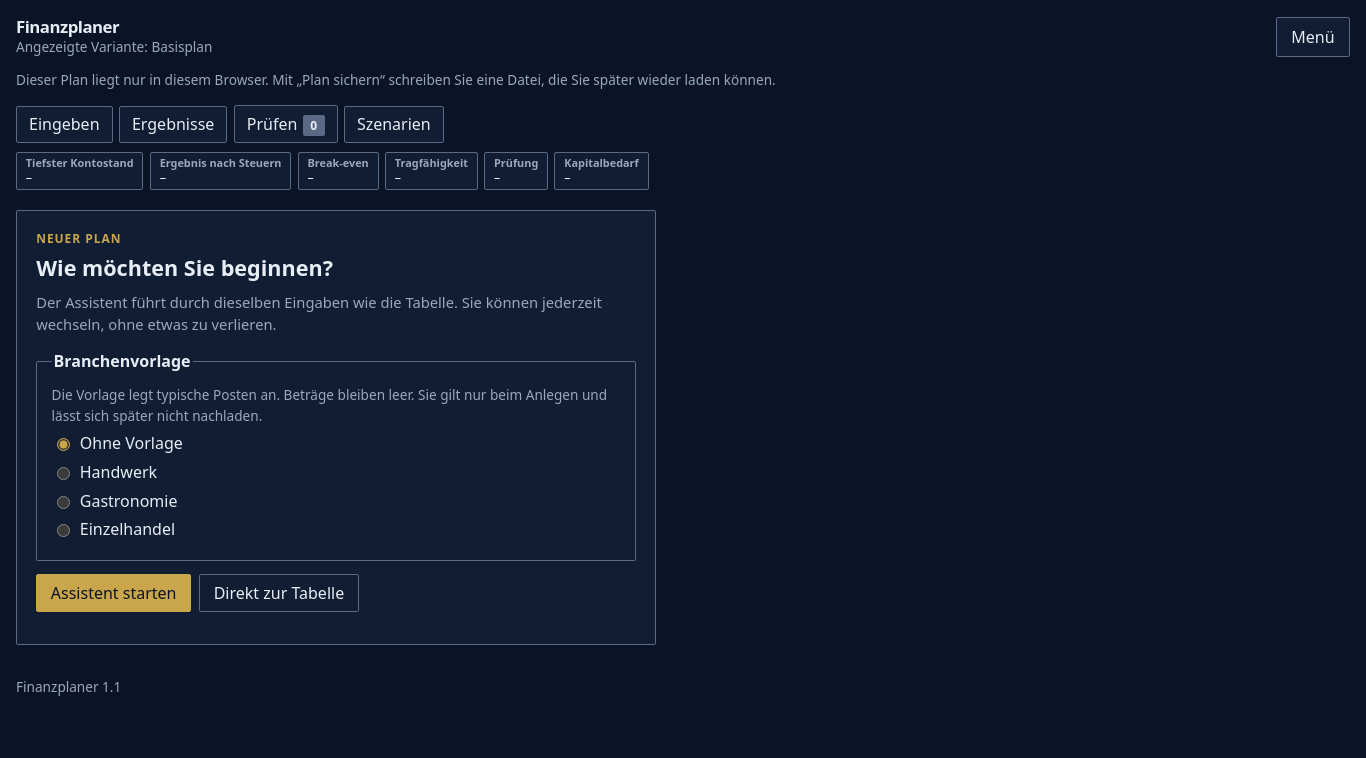
Test case: Branchenvorlage beim neuen Plan › zeigt die Auswahl und legt Handwerk mit leerem Betrag an
Expected: the radio button labelled "Ohne Vorlage" is checked, [57,438,70,451]
Click the radio button labelled "Handwerk": (63, 473) [57,467,70,480]
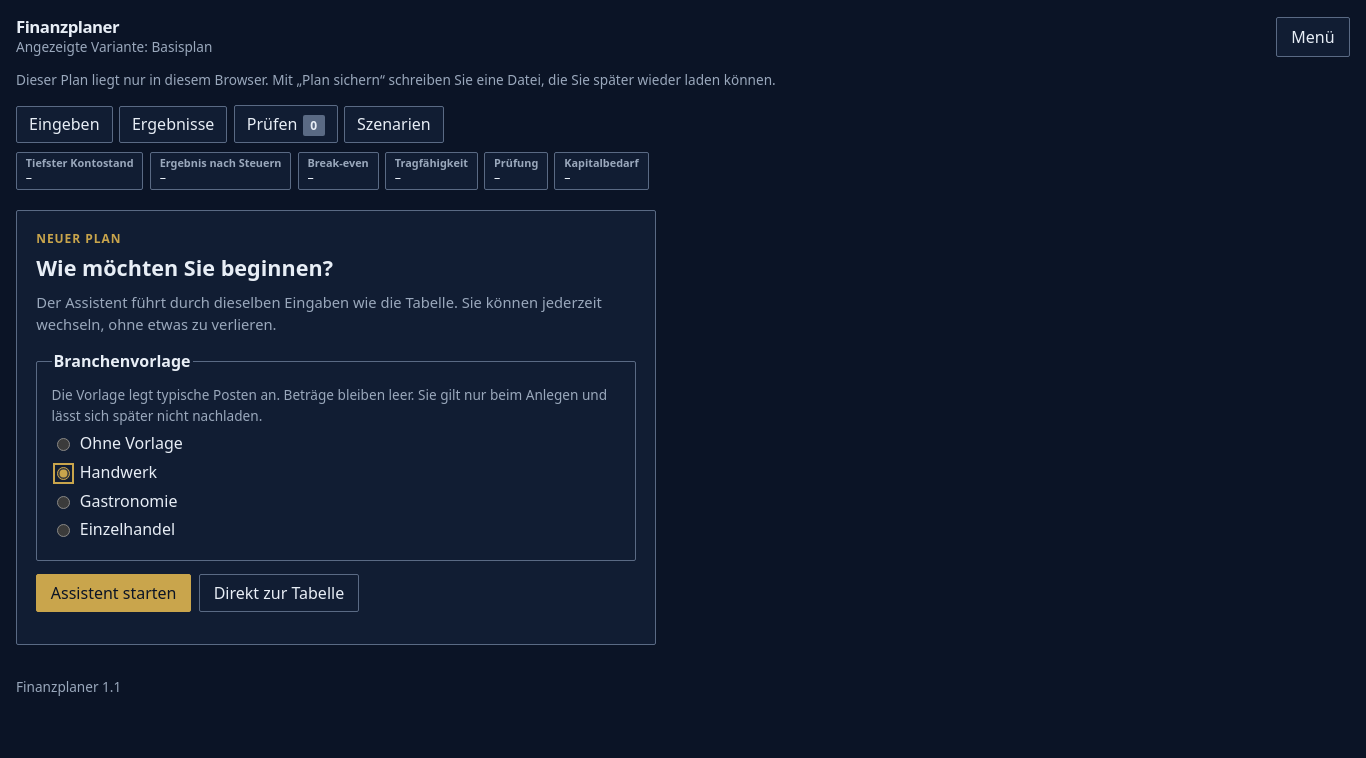
Click the button "Assistent starten": (114, 593) [36,574,191,612]
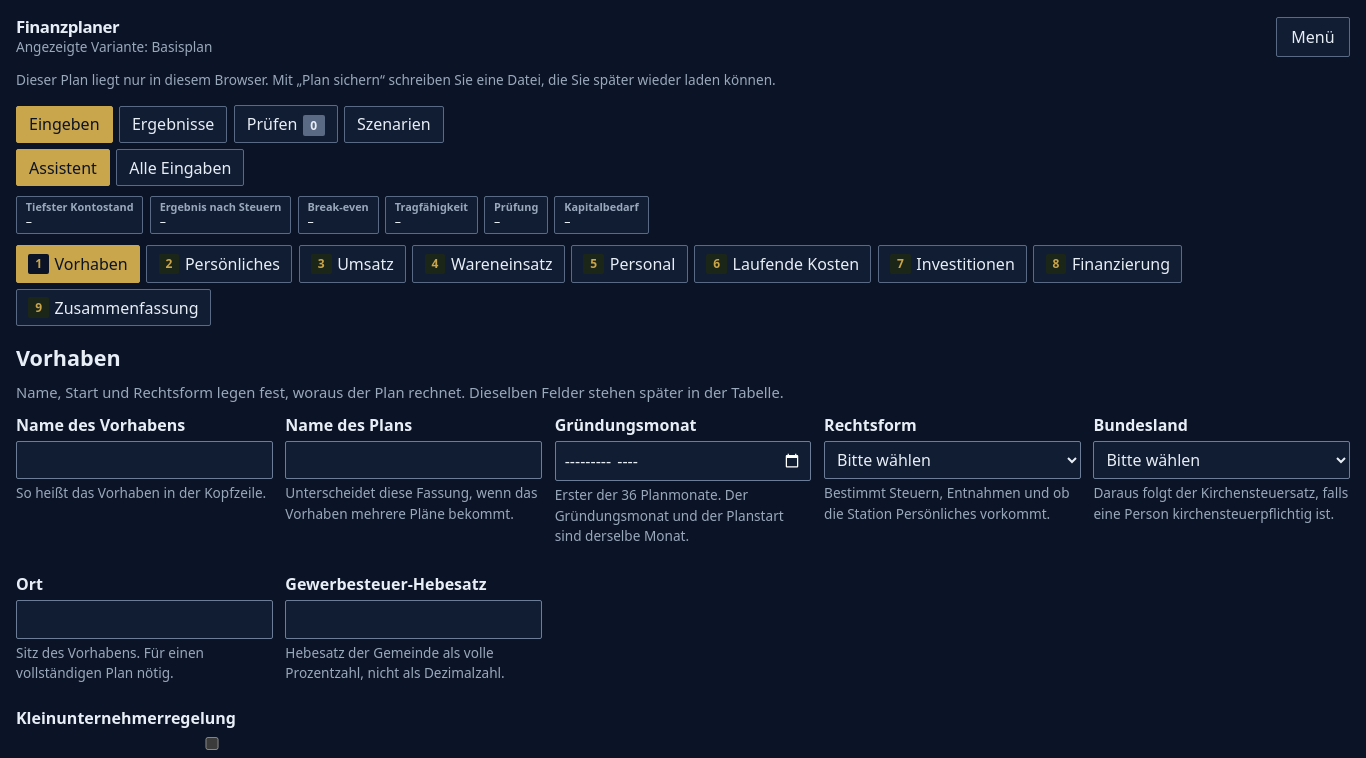
Click the button "3 Umsatz": (352, 264) [299,246,406,283]
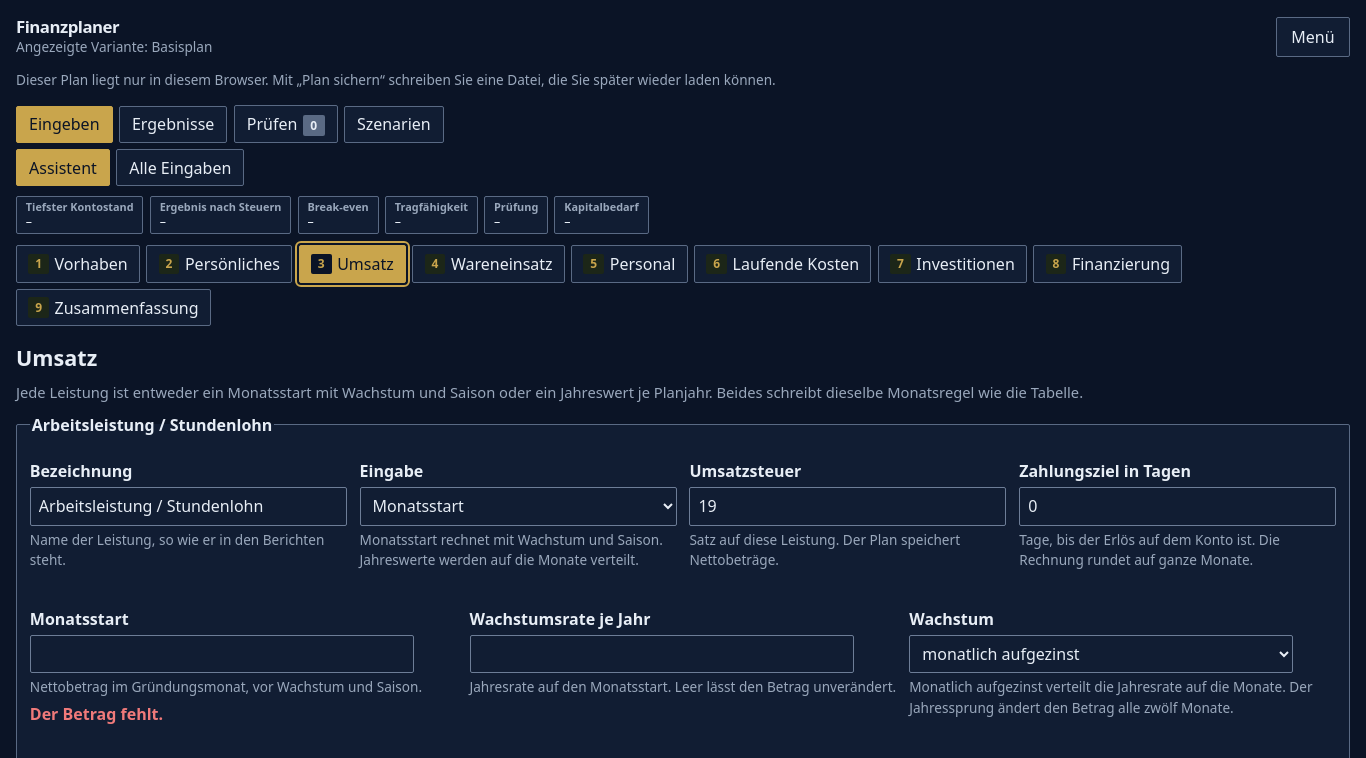
Expected: the field showing "Arbeitsleistung / Stundenlohn" is shown, [30,487,347,526]
Expected: the field labelled "Monatsstart" is empty, [30,635,414,673]
Expected: the text "Der Betrag fehlt." is shown, [30,703,163,725]
Click the button "6 Laufende Kosten": (783, 264) [694,246,871,283]
(page scrolled)
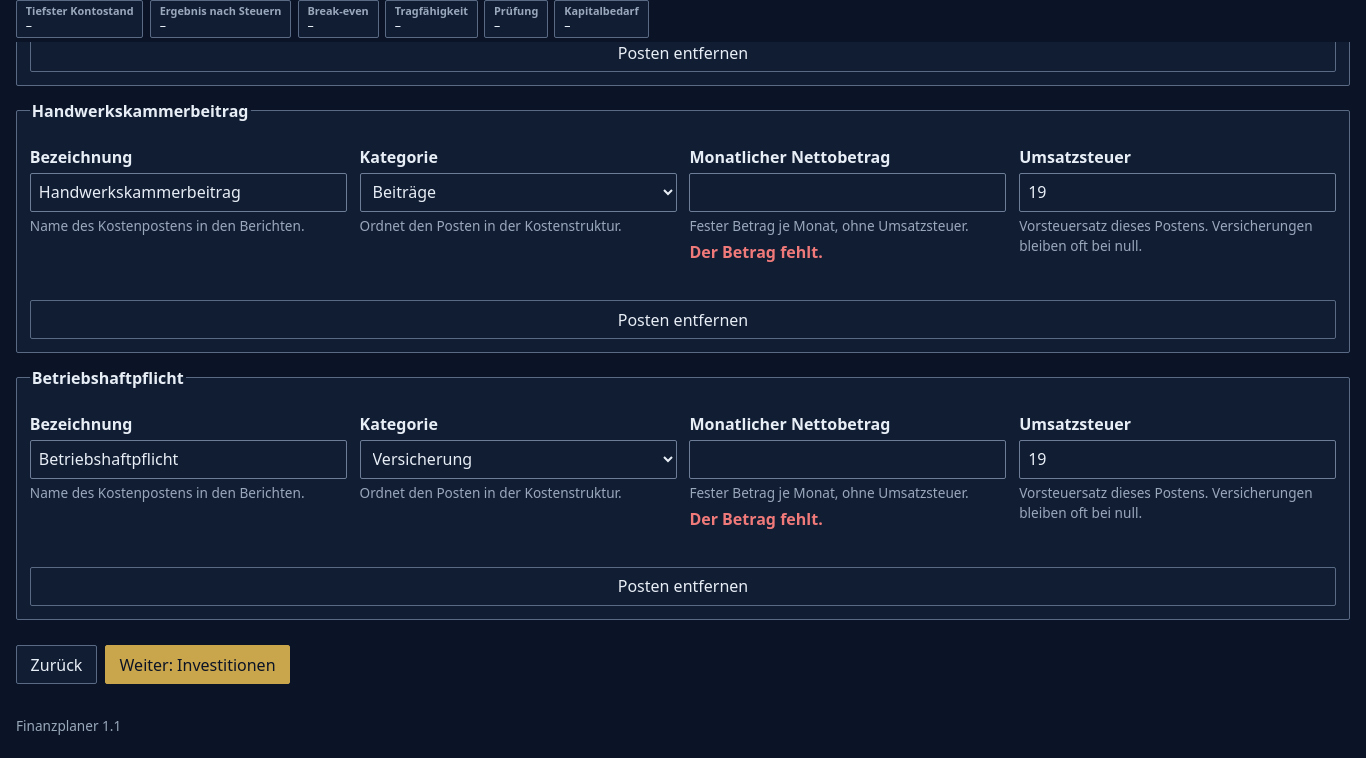
Expected: the field showing "Handwerkskammerbeitrag" below "Handwerkskammerbeitrag" is shown, [30,173,347,212]
Expected: the field showing "Betriebshaftpflicht" below "Betriebshaftpflicht" is shown, [30,440,347,479]
